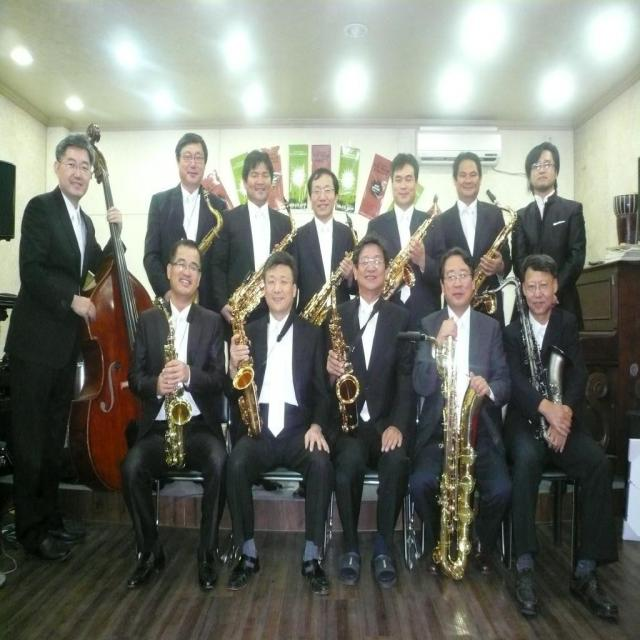saxophone: (482, 281, 579, 458), (427, 317, 489, 588), (320, 273, 366, 435), (222, 290, 271, 440), (376, 190, 442, 299), (298, 210, 361, 323), (236, 198, 300, 306), (468, 188, 518, 315), (156, 288, 185, 470), (183, 186, 225, 302)
